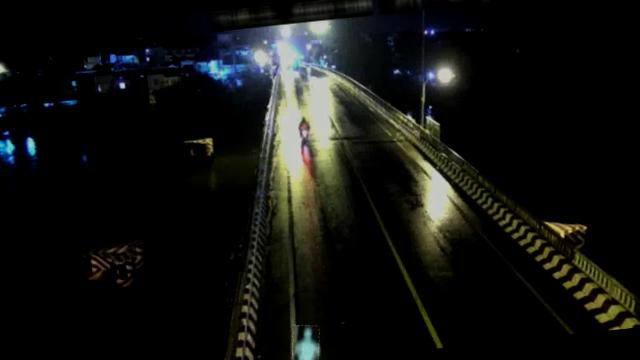Bike: (288, 323, 321, 360), (295, 114, 314, 142)
